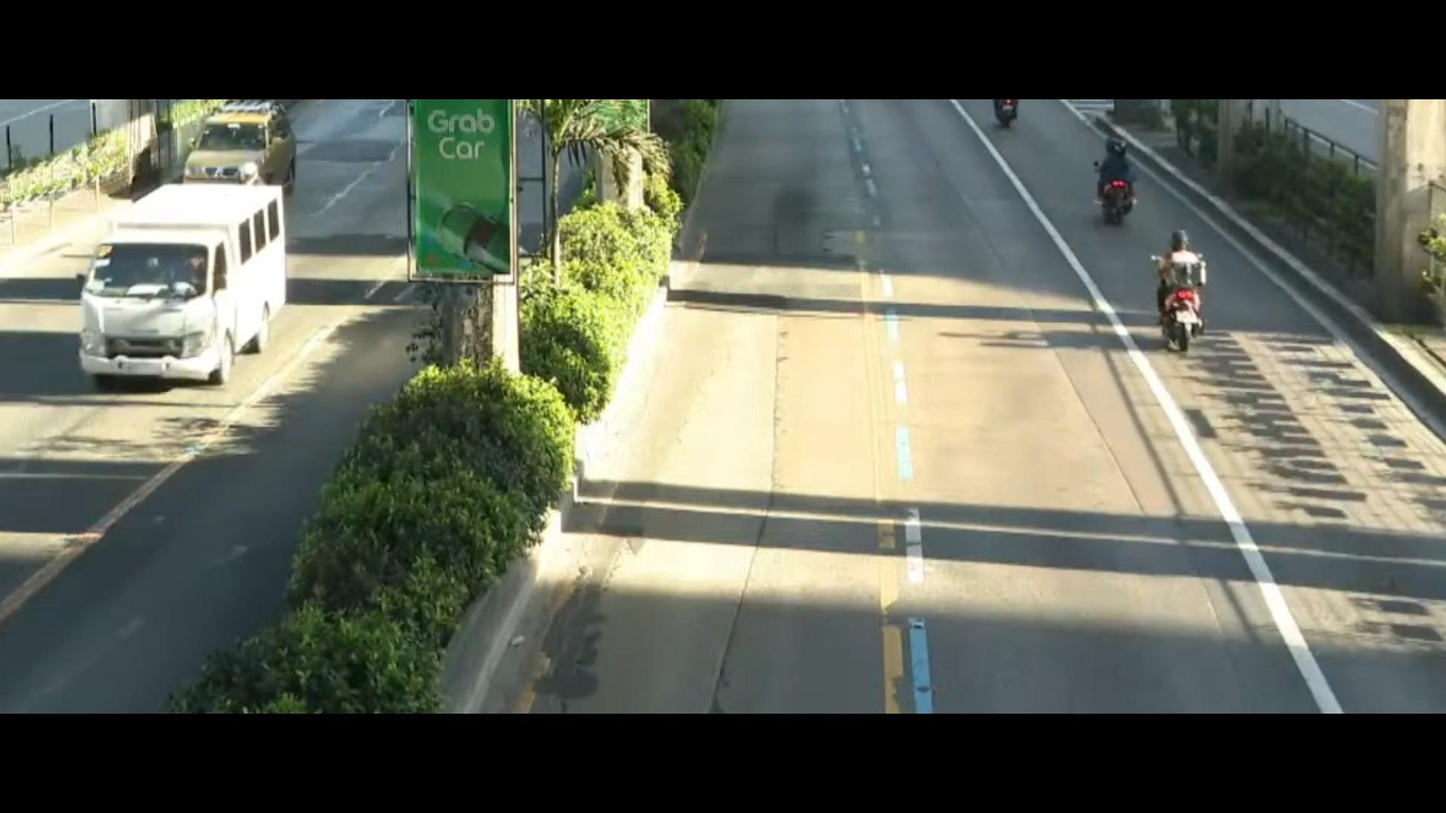Motorcycle: (1114, 226, 1237, 387), (1084, 134, 1155, 241), (986, 94, 1030, 128)
Multicab: (43, 166, 324, 416)
SUV: (174, 104, 315, 194)
